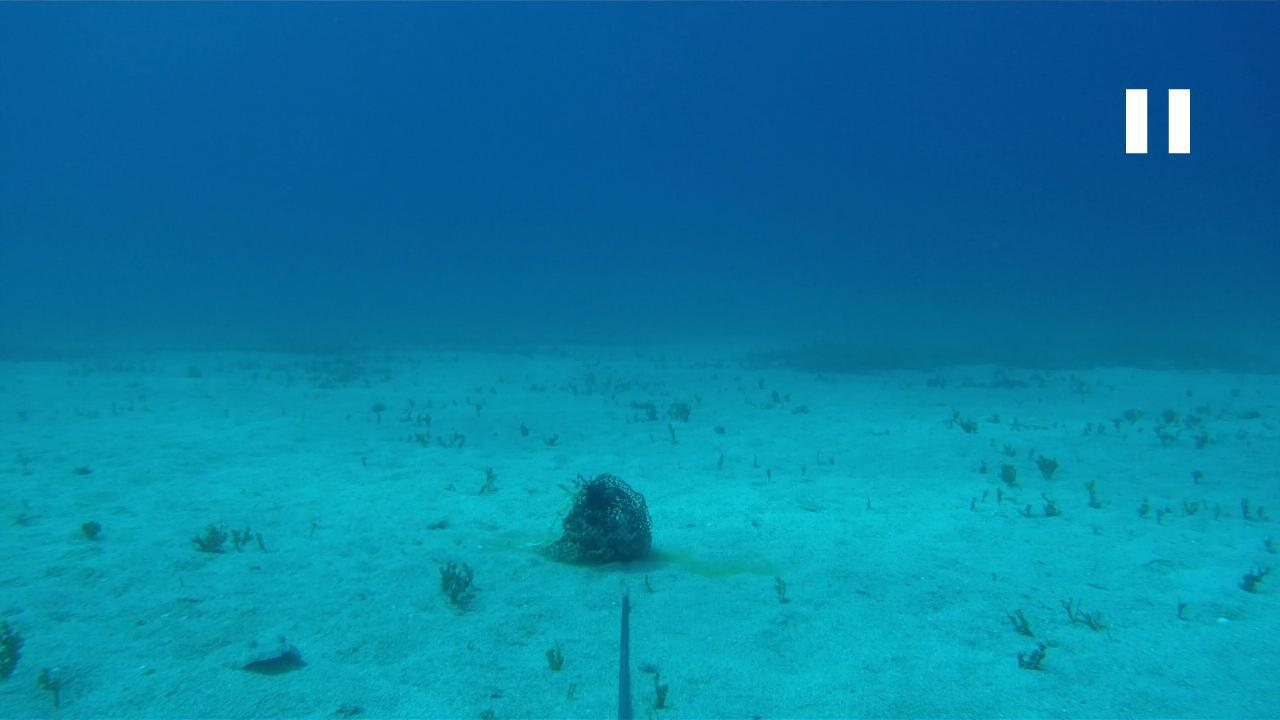bothus: (188, 632, 309, 676)
